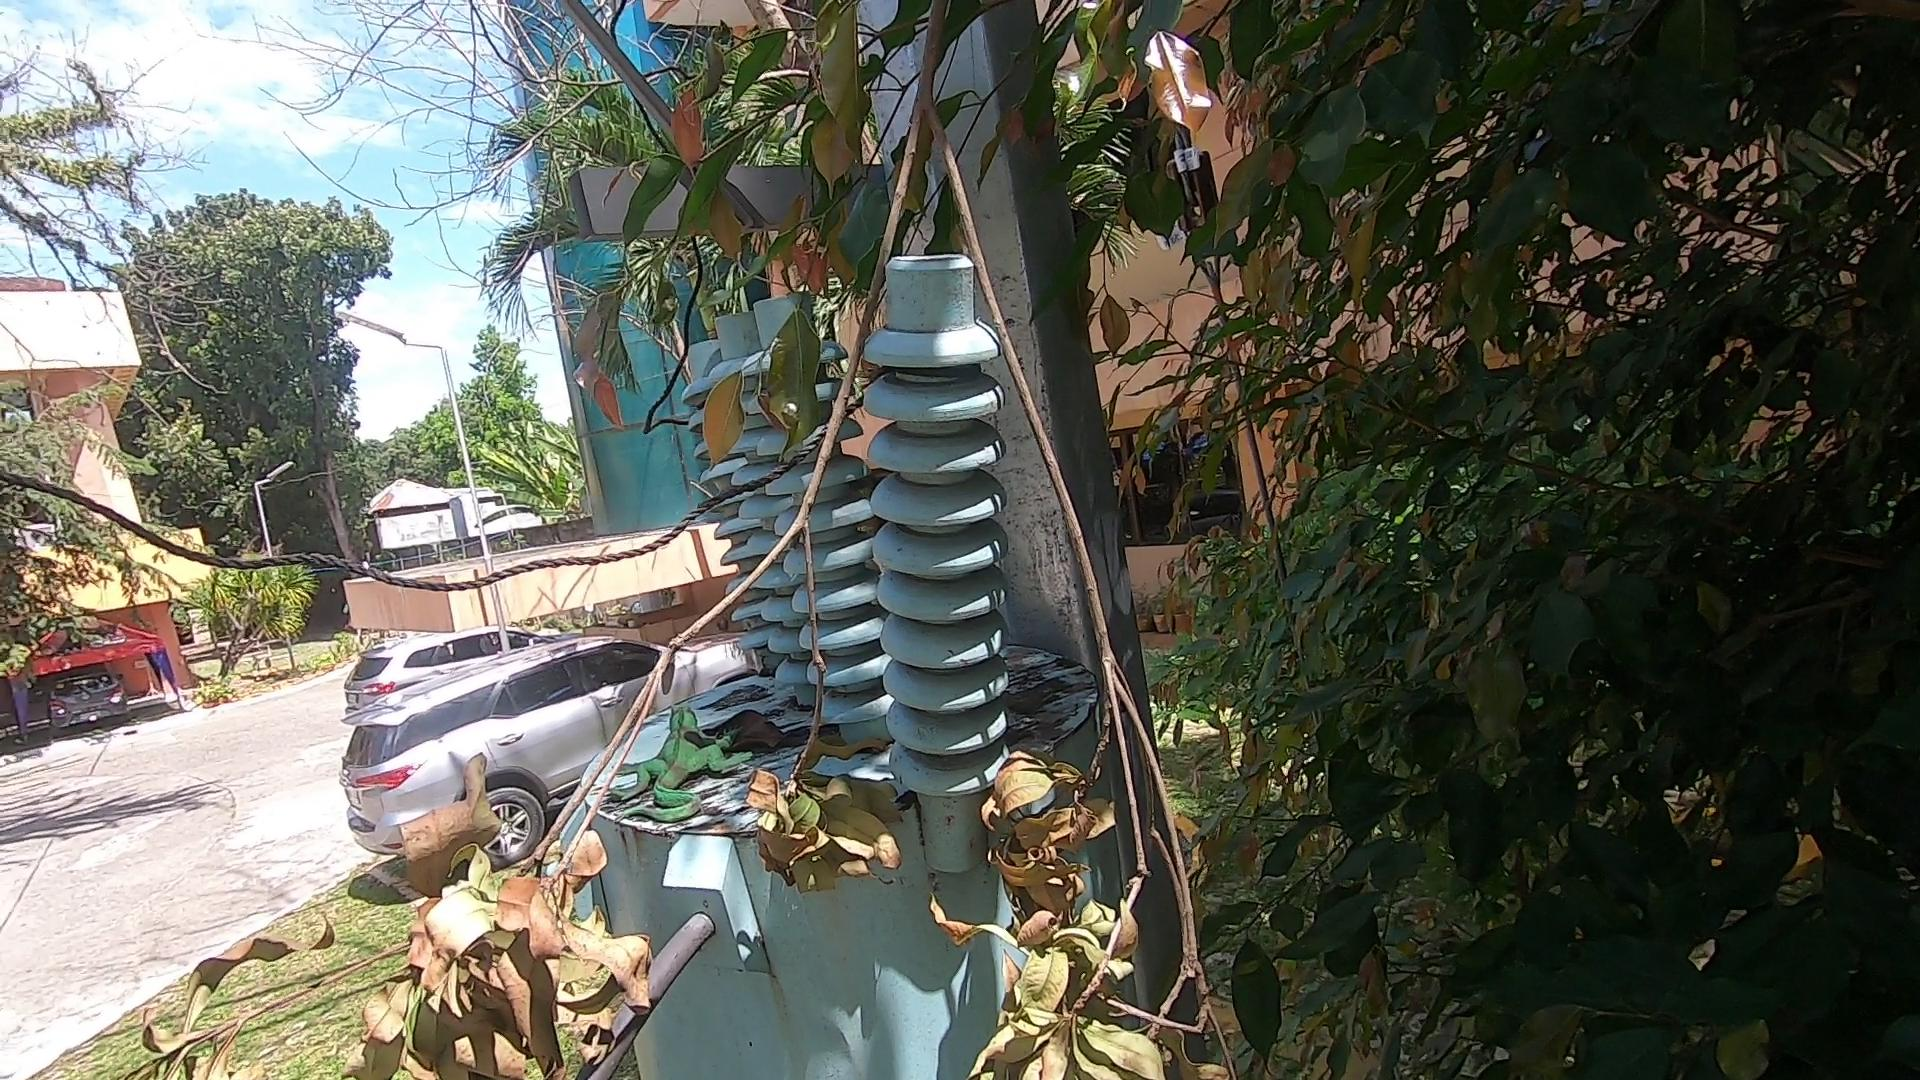branch with leaves: (96, 1, 1354, 1073)
leaf: (716, 700, 790, 773)
